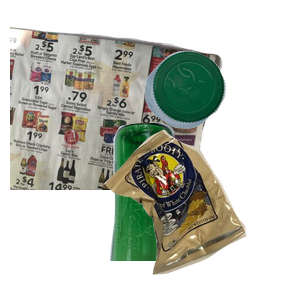glass: (107, 120, 278, 300)
paper: (10, 22, 225, 202)
plastic: (142, 48, 300, 169)
trash: (101, 127, 300, 300)
